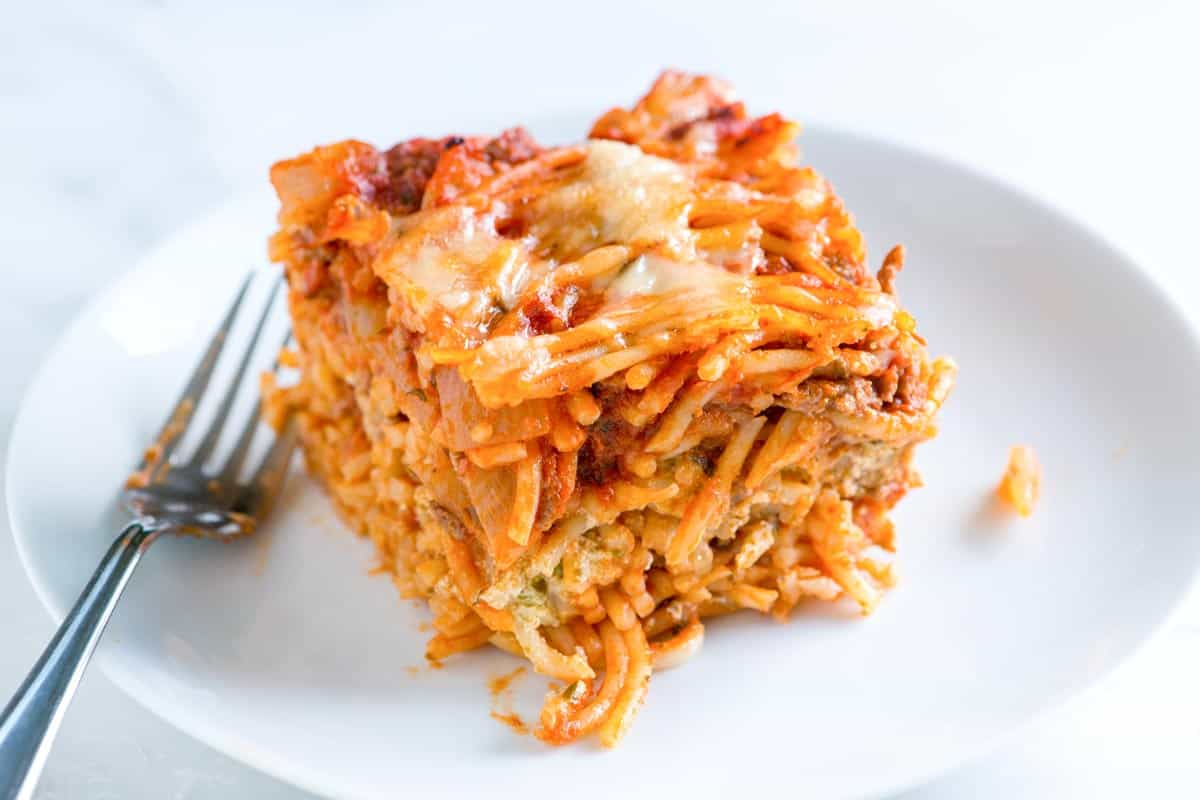plain spaghetti: (276, 122, 944, 660)
